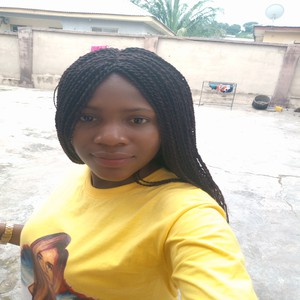Fulokoja_female_student: (57, 62, 192, 300)
